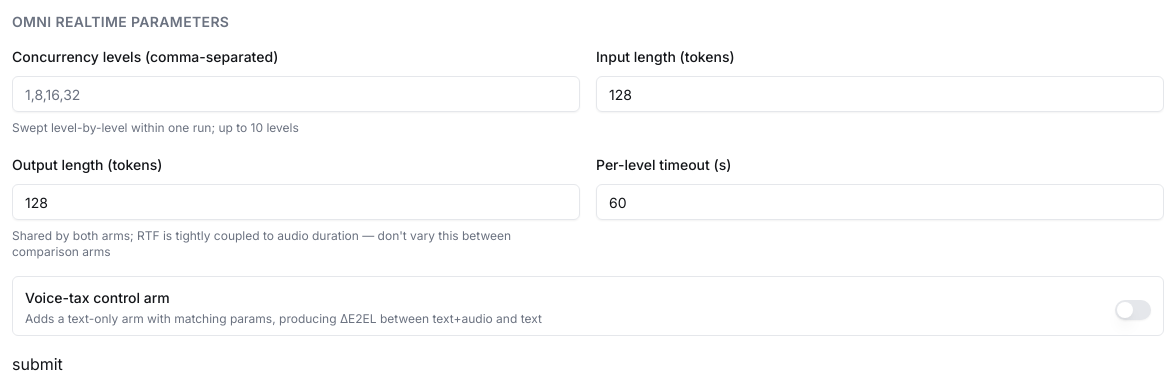
Test: VllmOmniBenchParamsForm concurrencyLevels › does not collapse a trailing comma while typing (regression: hand-typed 1,8 used to become 18)
Type "1," into the field labelled "Concurrency levels (comma-separated)".
click(296, 94); type("1,")  # box 12,76 -> 580,112
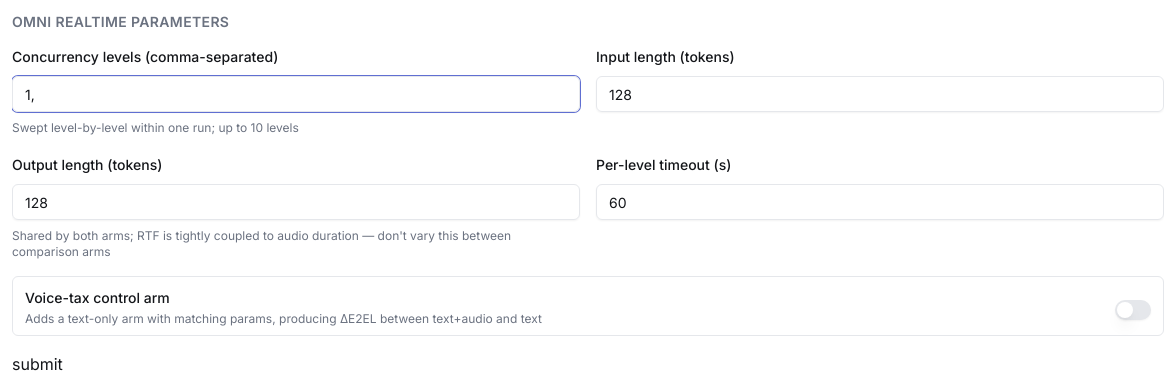
Type "8" into the field labelled "Concurrency levels (comma-separated)".
click(296, 94); type("8")  # box 12,76 -> 580,112
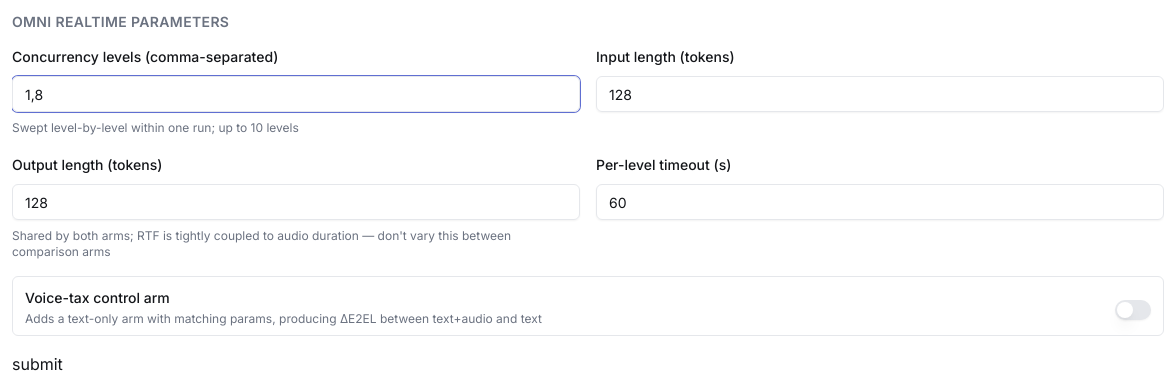
Result: the field labelled "Concurrency levels (comma-separated)" holds "1,8" at 12,76 -> 580,112
